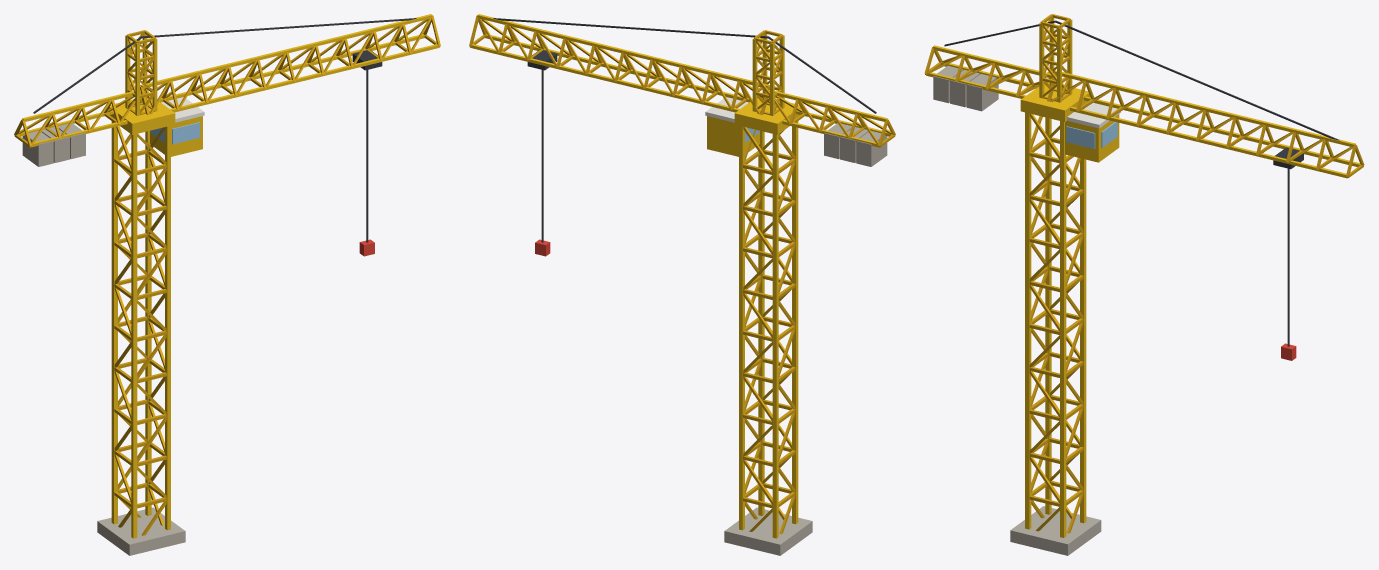
The model's file is skyline-tower-crane.glb.
3 views of the same model, side by side, from view 1: azimuth 30°, elevation 25°; view 2: azimuth 150°, elevation 25°; view 3: azimuth 330°, elevation 25° (orthographic). The views are drawn at different scales.
Visible parts, largest first — view 1: skyline-tower-crane; view 2: skyline-tower-crane; view 3: skyline-tower-crane.
Part boxes in pixels (x1=…): skyline-tower-crane: x1=14, y1=14, x2=440, y2=555; skyline-tower-crane: x1=469, y1=14, x2=895, y2=555; skyline-tower-crane: x1=924, y1=14, x2=1364, y2=555.
Size of the model in its own units: 19.1 by 22.32 by 2.6.
